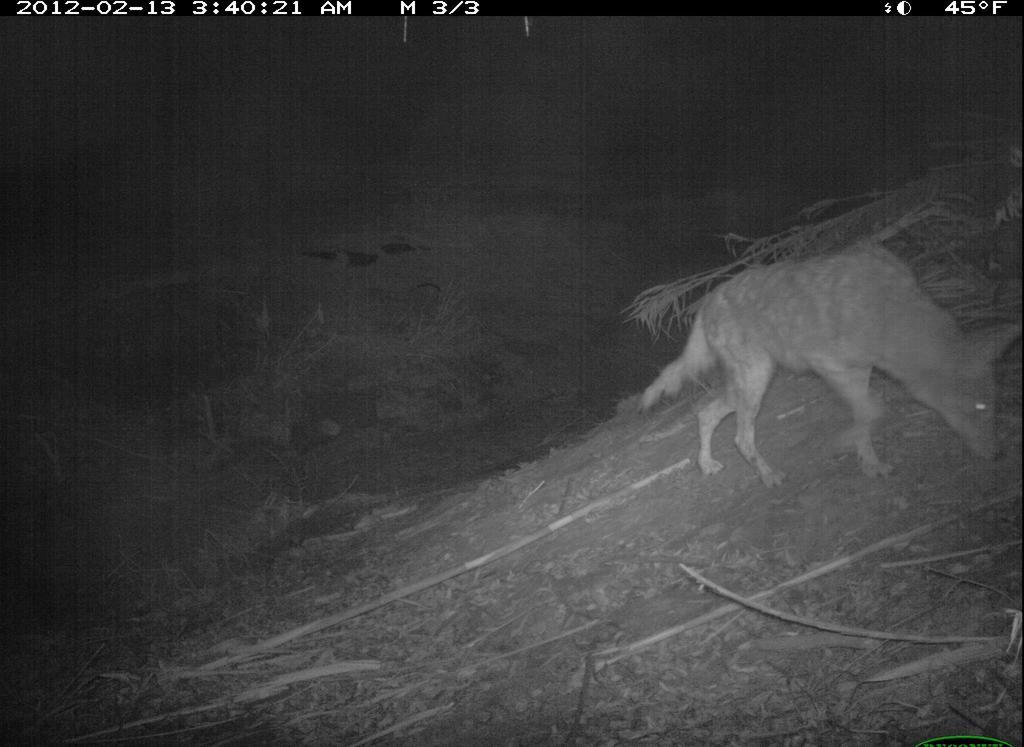coyote: (632, 226, 1023, 492)
